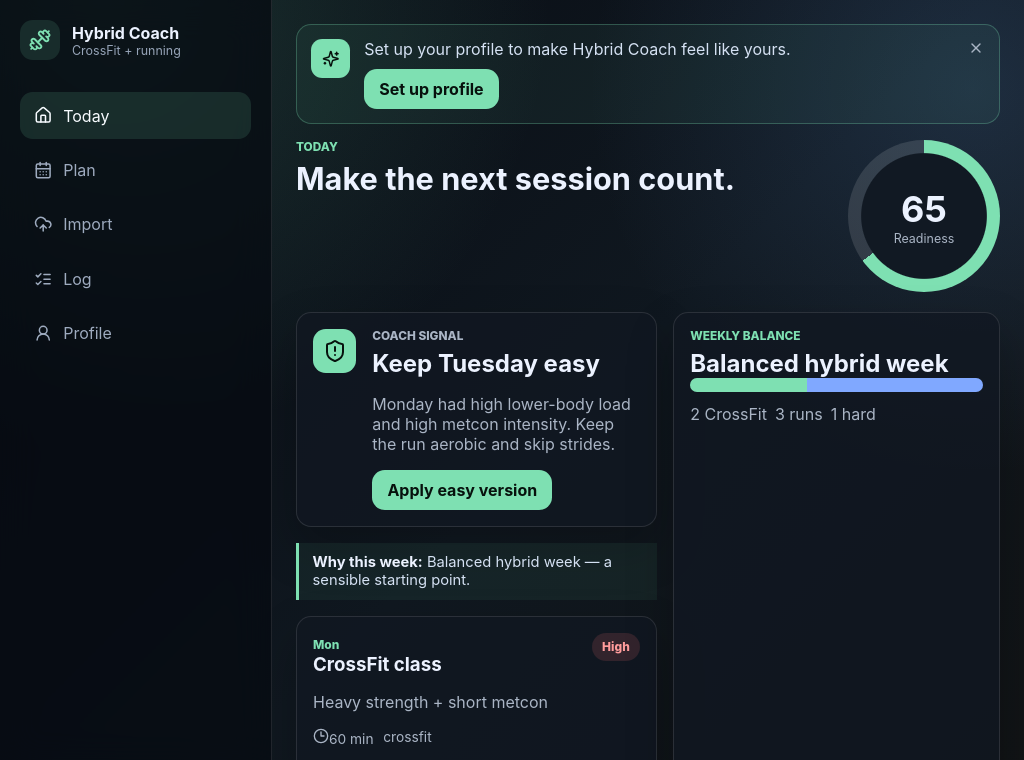
Scenario: App › saves a log entry and shows it in the Recent logs panel
The image size is (1024, 760).
Click the button "Log": (136, 279) [20,255,251,302]
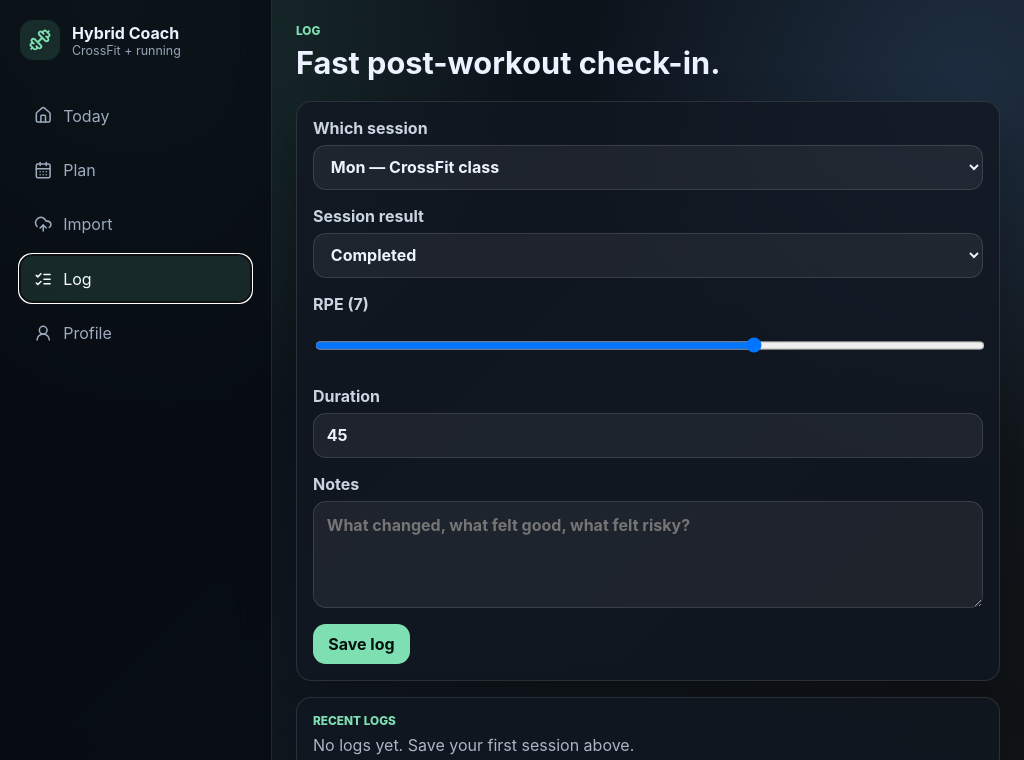
Select "Mon — CrossFit class" in the dropdown labelled "Which session": (648, 167) [313,145,983,190]
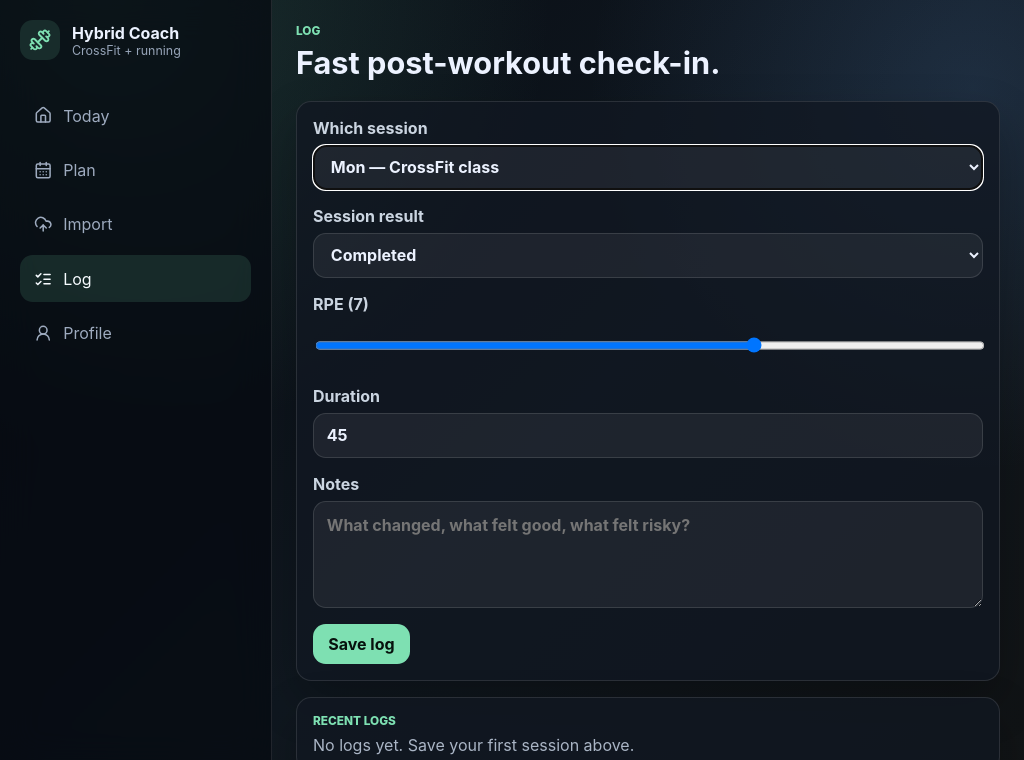
Replace the text in the number field labelled "Duration" with "62": (648, 435) [313,413,983,458]
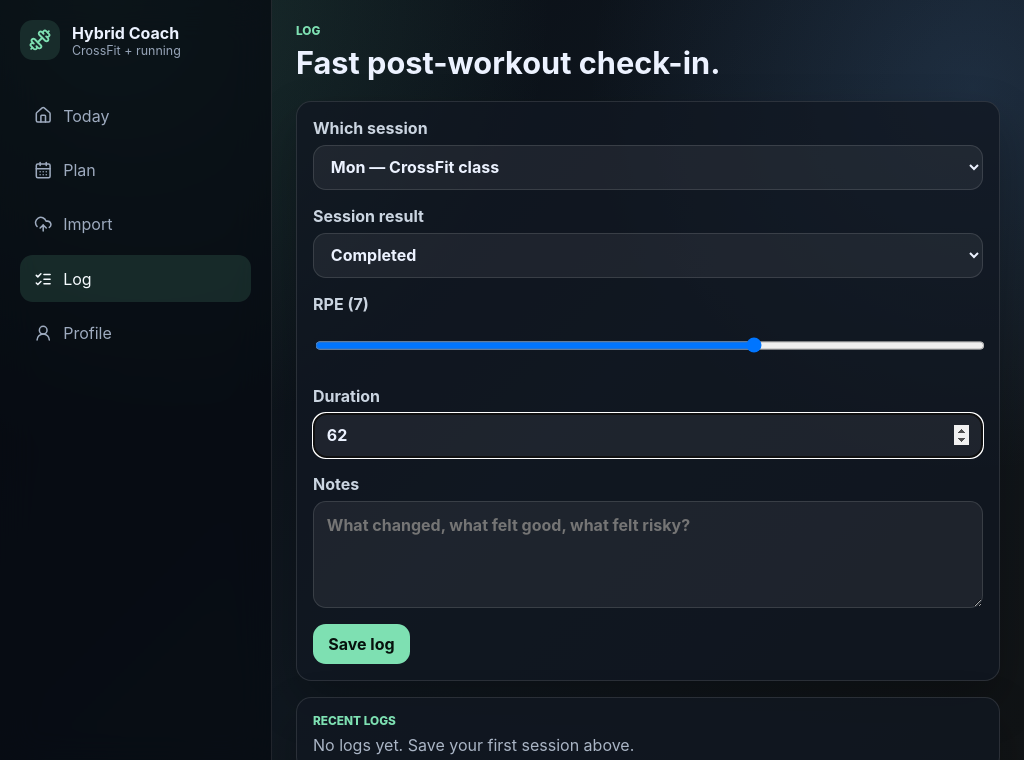
In the text box labelled "Notes": (648, 554) [313,501,983,608], type "felt strong"
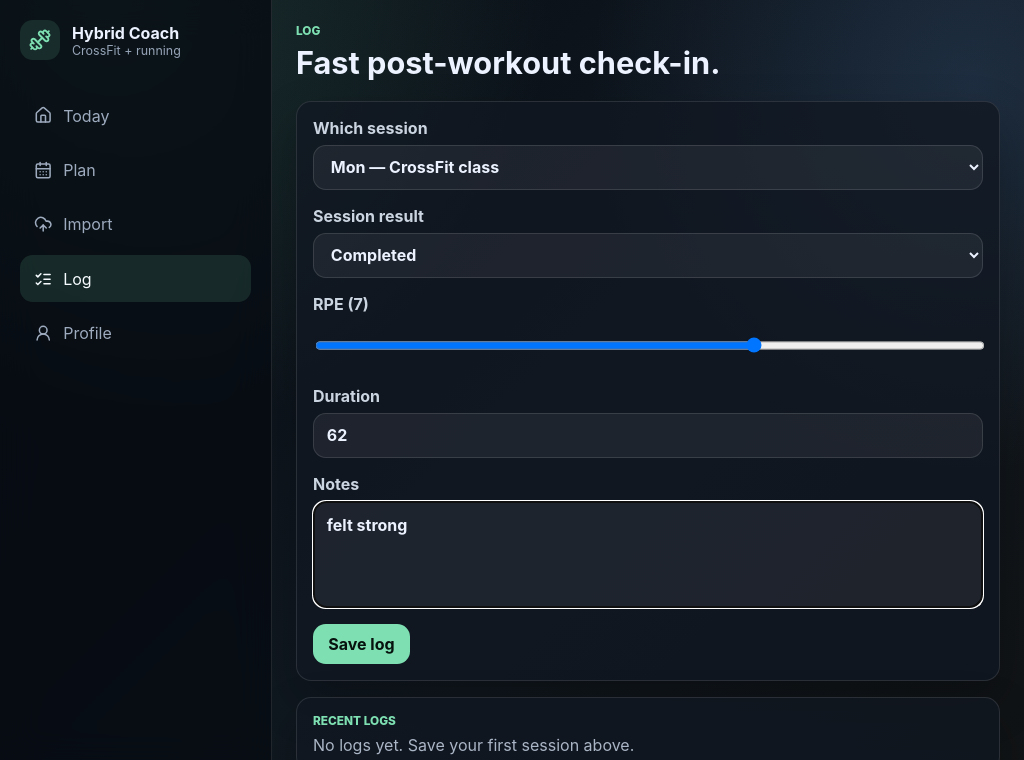
Click the button "Save log": (361, 644) [313,624,410,664]
(page scrolled)
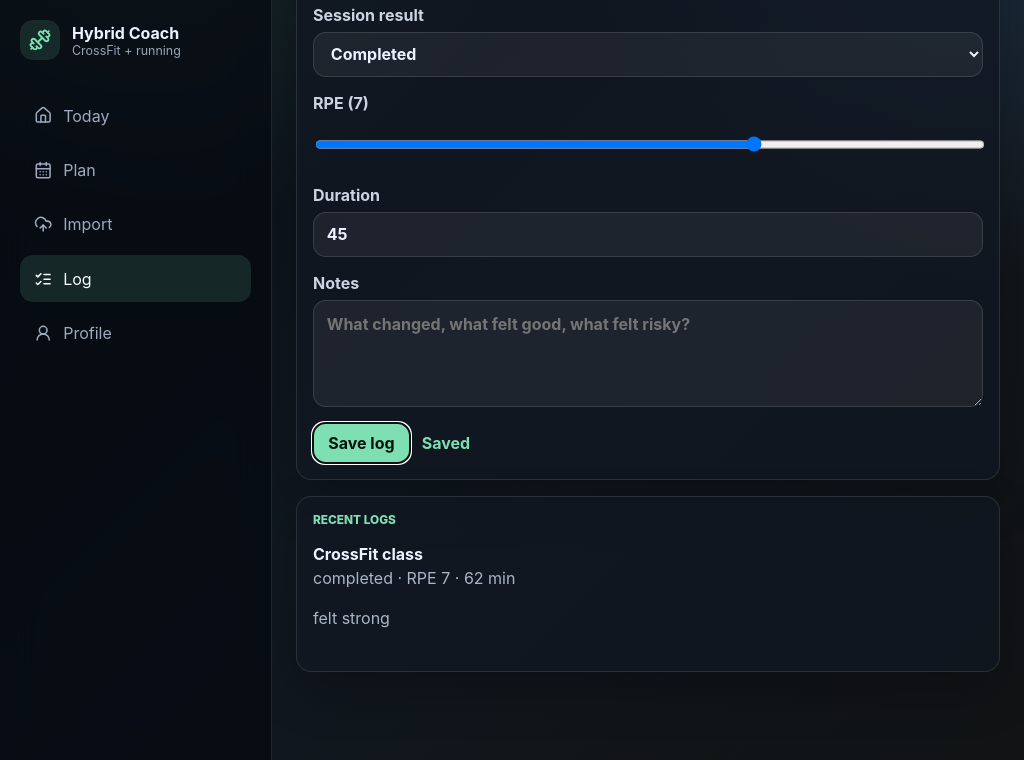
Check: the text "Saved" is shown, box [422,433,470,453]
Check: the text "felt strong" is shown, box [313,608,390,628]
